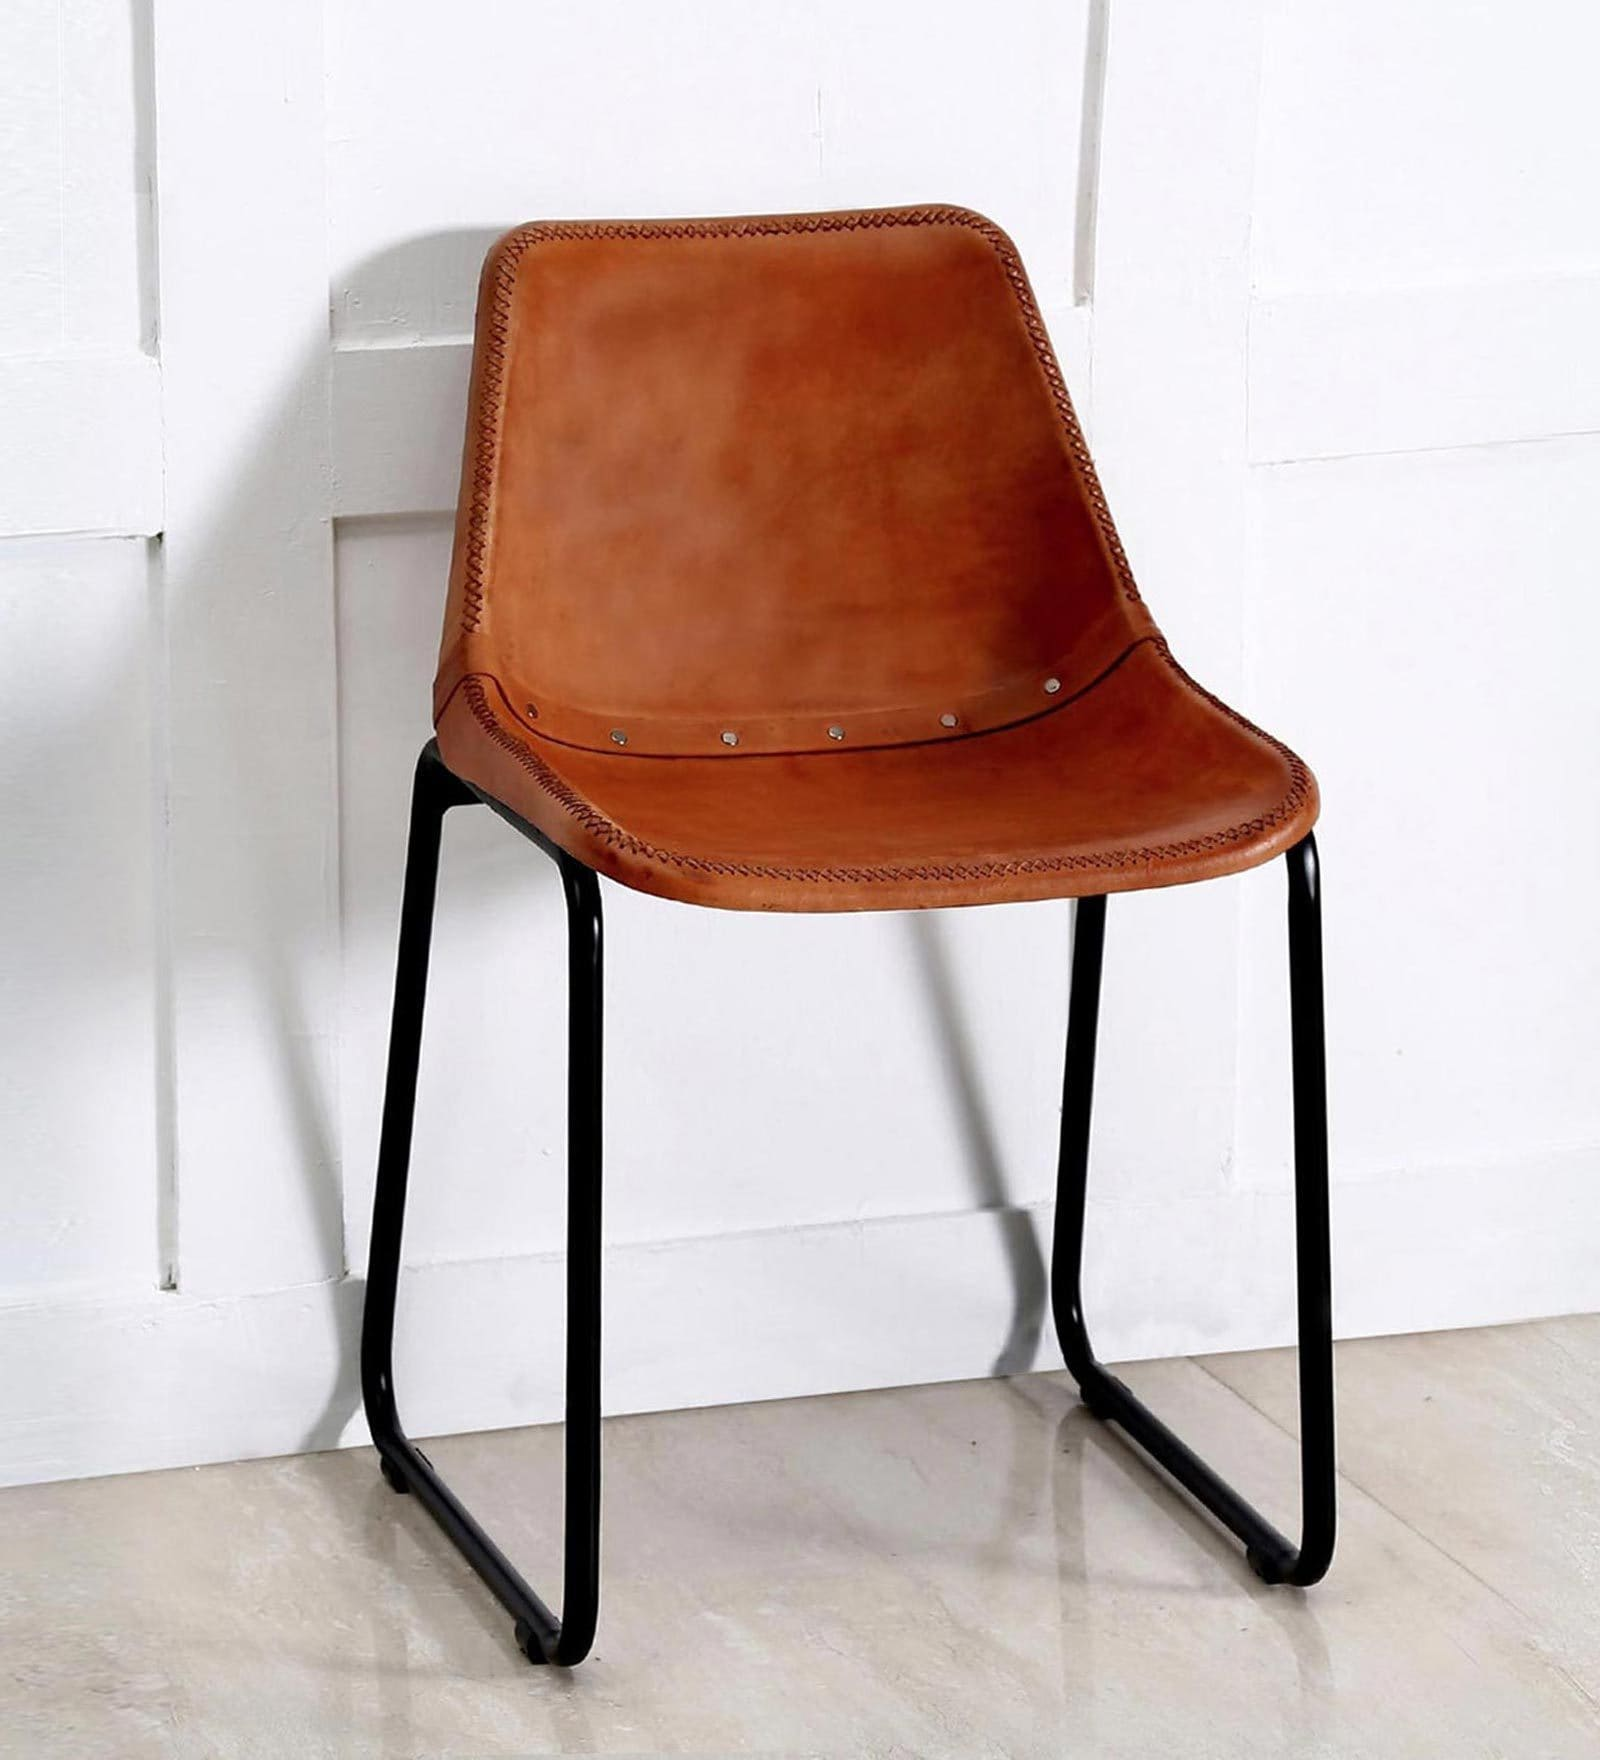Medina Natural Color Leather Accent Chair by Bohemiana: (354, 192, 1359, 1679)
